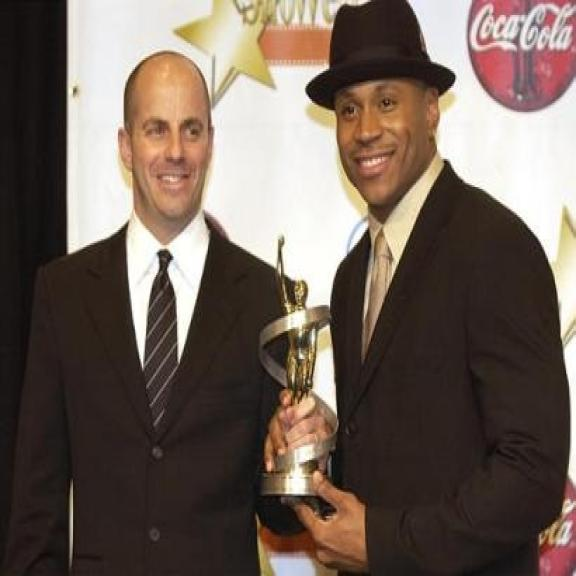face: (333, 79, 449, 210), (115, 81, 216, 224)
